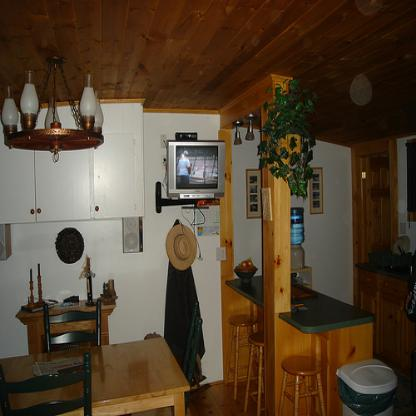chair: (0, 347, 92, 414), (43, 295, 101, 350)
diningtable: (0, 332, 191, 412)
pottedplant: (256, 80, 319, 196)
tvmonitor: (166, 137, 224, 194)
